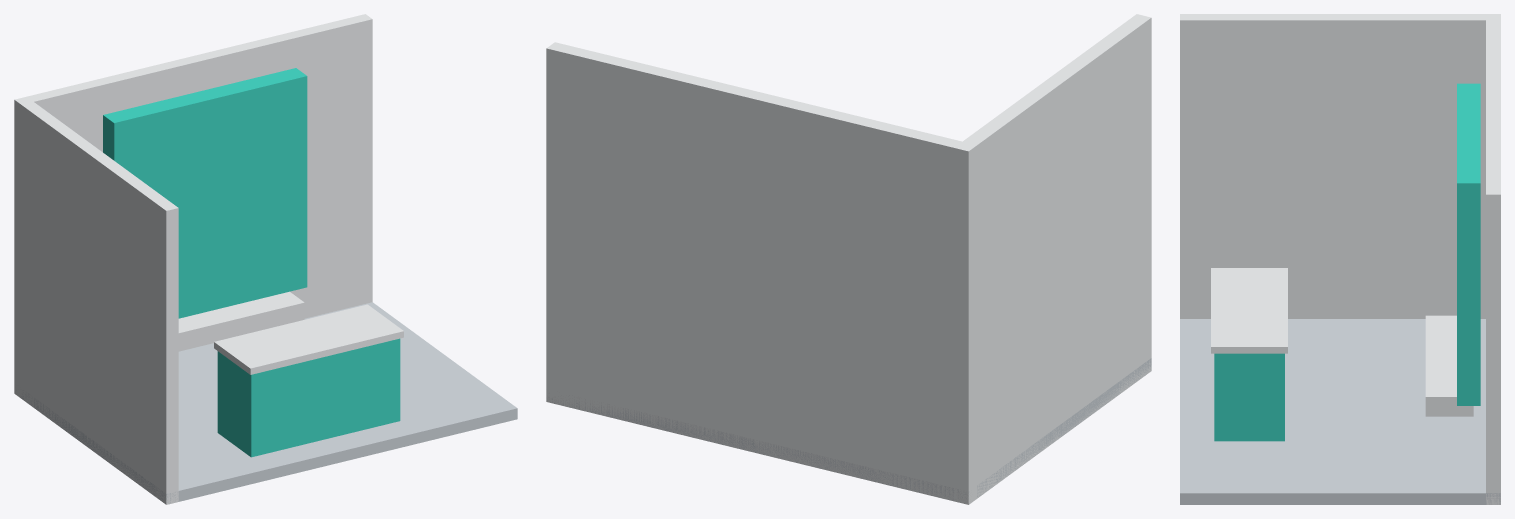
The picture shows the model from 3 angles, left to right: view 1: azimuth 30°, elevation 25°; view 2: azimuth 150°, elevation 25°; view 3: azimuth 270°, elevation 25°; orthographic projection. The views are drawn at different scales.
Parts seen in each view (by area): view 1: Exhibition Booth Concept; view 2: Exhibition Booth Concept; view 3: Exhibition Booth Concept.
Part boxes in pixels (x1,y1,x2,y2): Exhibition Booth Concept: (14,14,517,504); Exhibition Booth Concept: (546,14,1151,504); Exhibition Booth Concept: (1180,14,1500,504).
Size of the model in its own units: 4 by 3.2 by 3.
